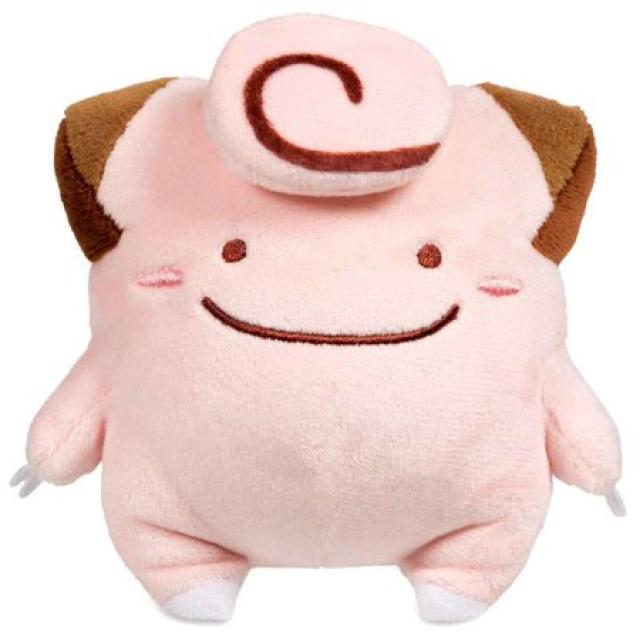Clefairy: (12, 25, 625, 602)
